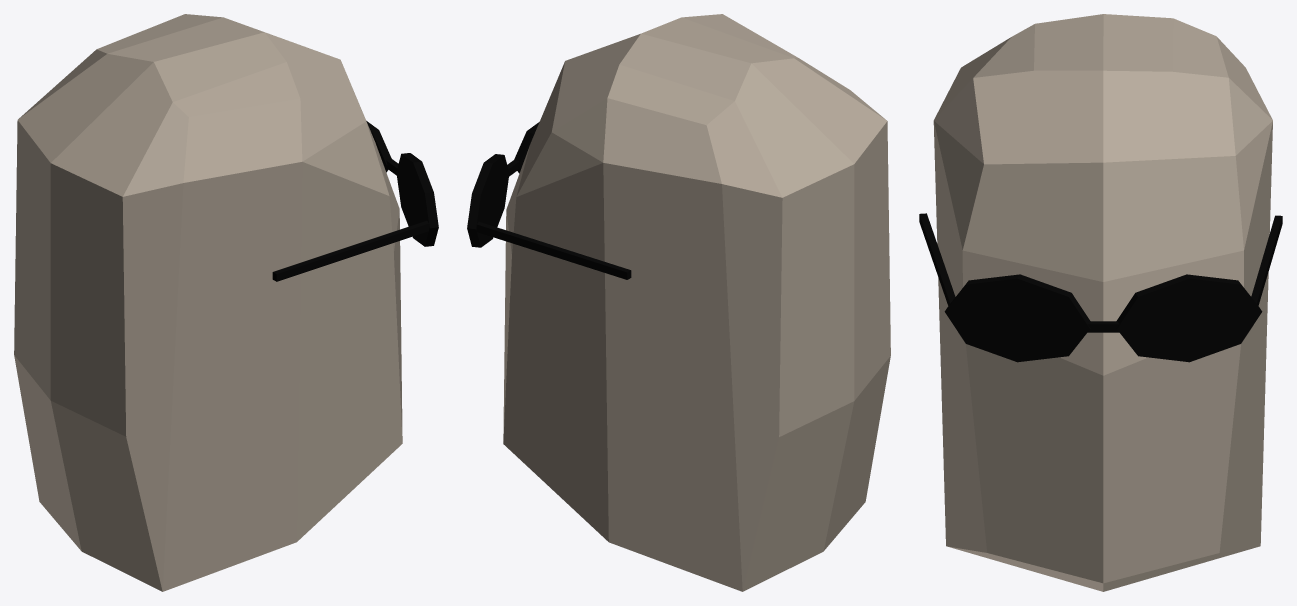
The model's file is head4.fbx.
3 views of the same model, side by side, from view 1: azimuth 30°, elevation 25°; view 2: azimuth 150°, elevation 25°; view 3: azimuth 270°, elevation 25° (orthographic). The views are drawn at different scales.
Parts seen in each view (by area): view 1: head4; view 2: head4; view 3: head4.
Part boxes in pixels (bbox=[...]): head4: bbox=[14, 14, 438, 591]; head4: bbox=[467, 14, 890, 591]; head4: bbox=[919, 14, 1282, 591].
Bounding box in the file's own units: 66.25 × 86.11 × 53.93.
